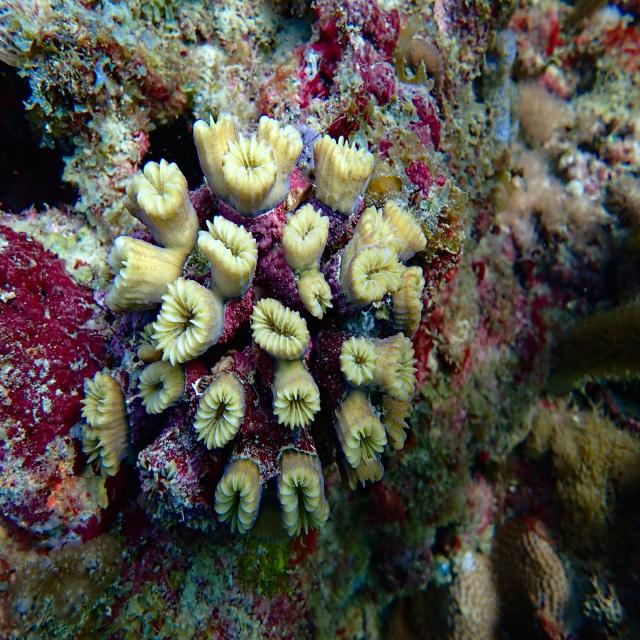Coral: (80, 115, 426, 534), (388, 549, 500, 640), (491, 518, 570, 640)
